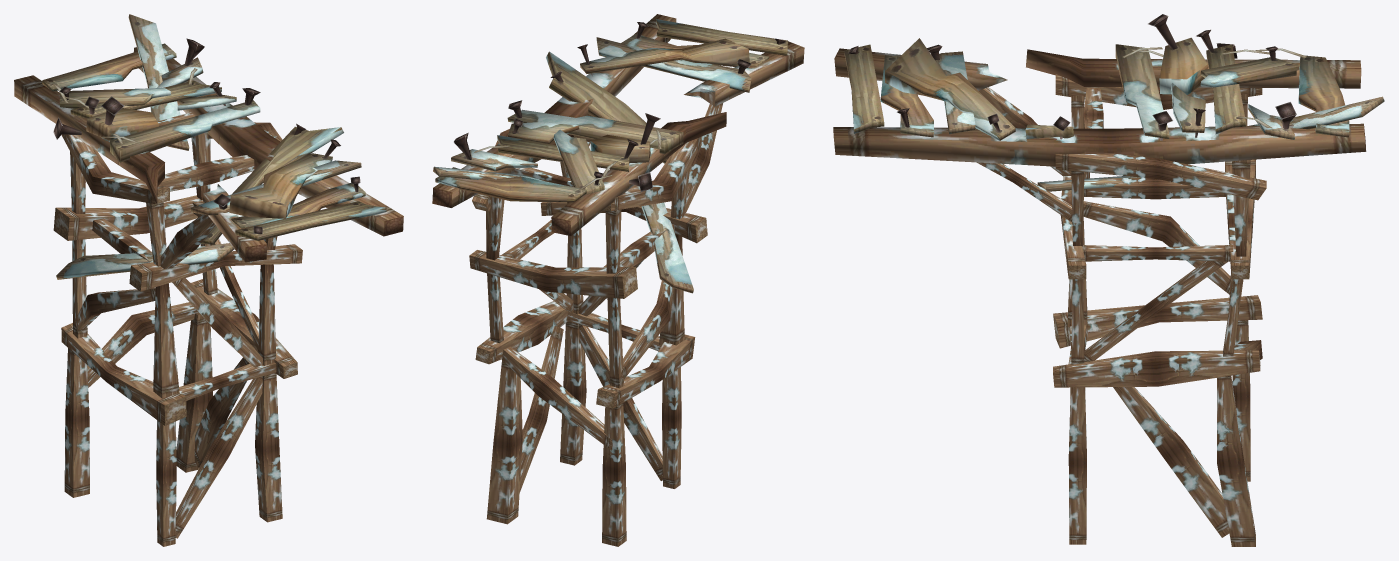
File: environment_common_mudiaoqiao_002_b.FBX
3 views of the same model, side by side, from view 1: azimuth 30°, elevation 25°; view 2: azimuth 150°, elevation 25°; view 3: azimuth 270°, elevation 25° (orthographic). The views are drawn at different scales.
Visible parts, largest first — view 1: environment_common_mudiaoqiao_001_a, environment_common_mudiaoqiao_002_a; view 2: environment_common_mudiaoqiao_001_a, environment_common_mudiaoqiao_002_a; view 3: environment_common_mudiaoqiao_001_a, environment_common_mudiaoqiao_002_a.
Boxes of the visible parts, x1,y1,x2,y2 form: environment_common_mudiaoqiao_001_a: [14, 38, 403, 546]; environment_common_mudiaoqiao_002_a: [42, 14, 386, 279]; environment_common_mudiaoqiao_001_a: [432, 14, 804, 546]; environment_common_mudiaoqiao_002_a: [433, 19, 787, 293]; environment_common_mudiaoqiao_001_a: [833, 14, 1366, 546]; environment_common_mudiaoqiao_002_a: [844, 37, 1384, 191].
Size of the model in its own units: 964 by 1761 by 1897.
